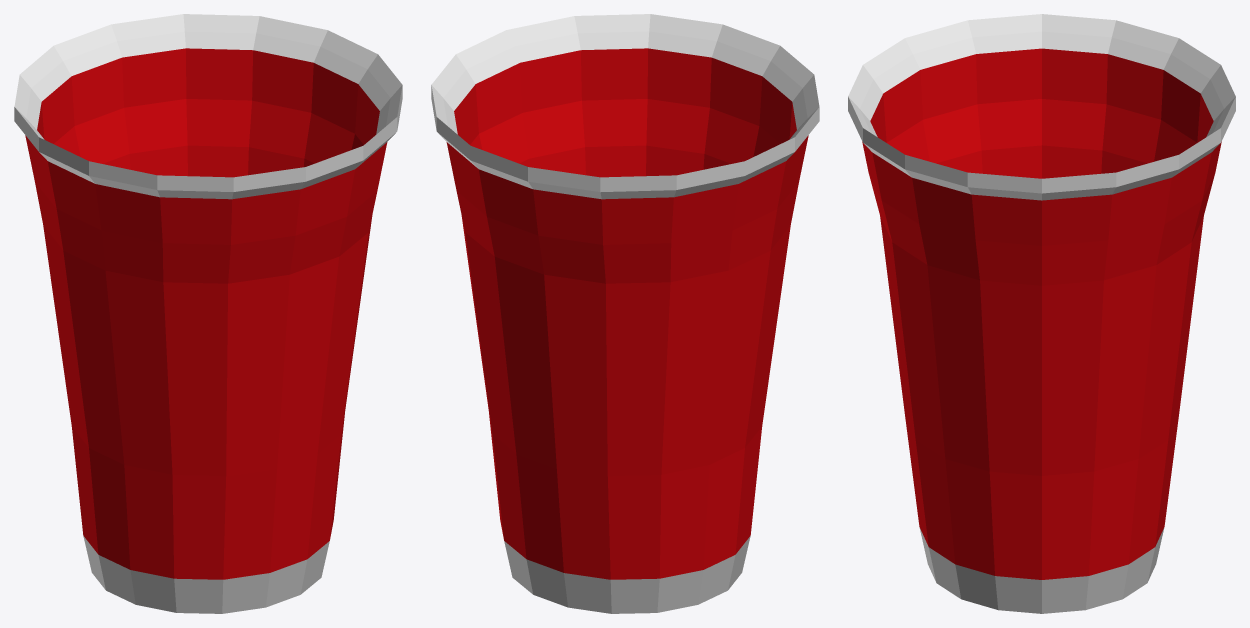
The model's file is Cup.fbx.
The picture shows the model from 3 angles, left to right: view 1: azimuth 30°, elevation 25°; view 2: azimuth 150°, elevation 25°; view 3: azimuth 270°, elevation 25°; orthographic projection.
Parts seen in each view (by area): view 1: Cup; view 2: Cup; view 3: Cup.
Part boxes in pixels (x1,y1,x2,y2): Cup: [14, 14, 402, 613]; Cup: [431, 14, 819, 613]; Cup: [848, 14, 1235, 613].
Bounding box in the file's own units: 8.81 × 11.67 × 8.76.
